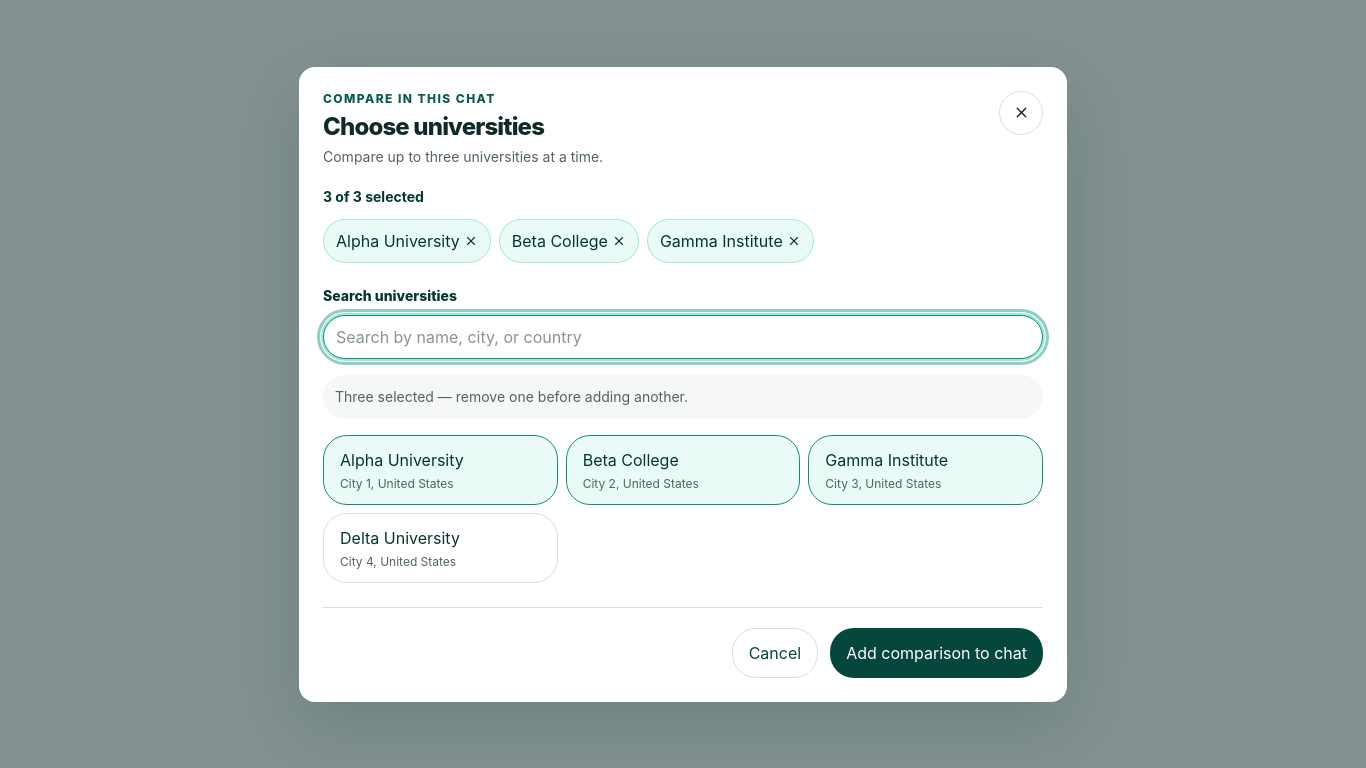
Test: UniversityPickerModal › labels an empty search result
In the search field labelled "Search universities": (683, 336) [323, 314, 1043, 358], type "nowhere"
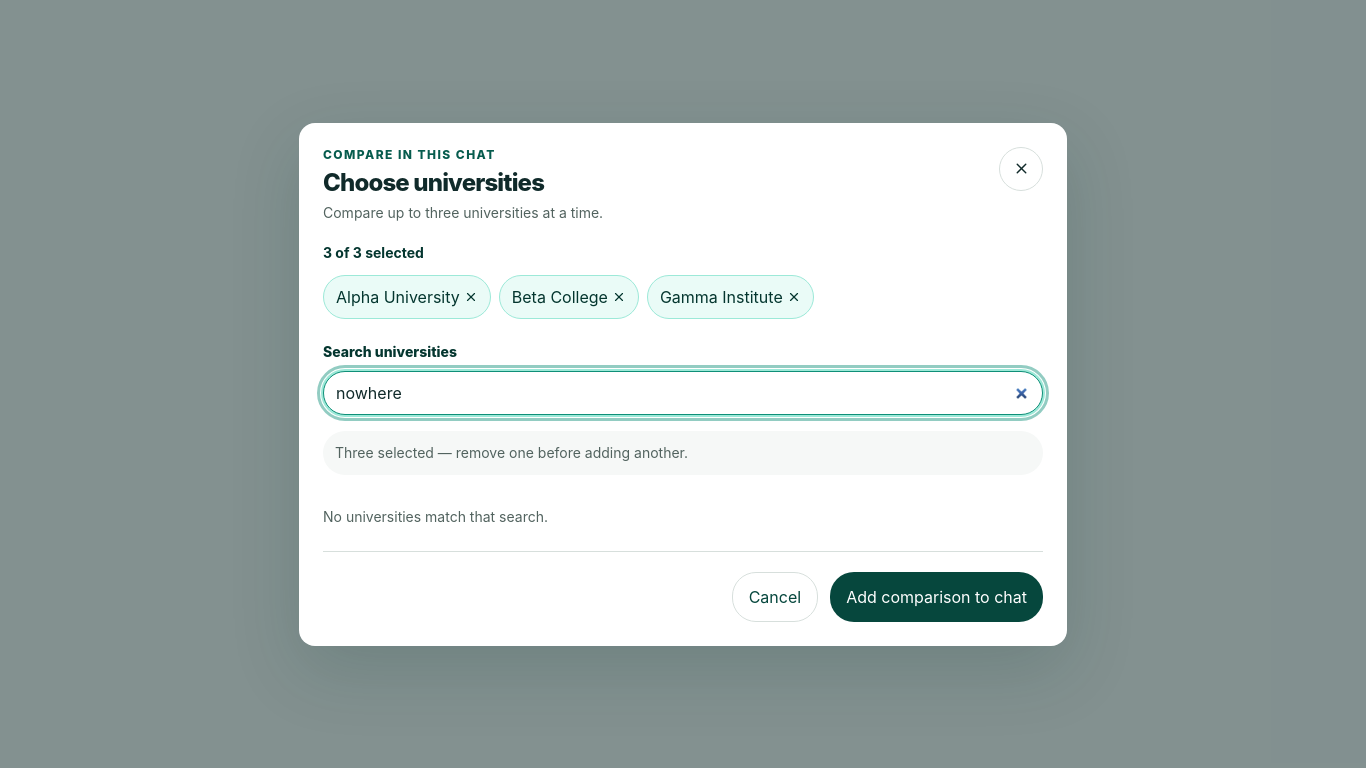
Now the text "No universities match that search." is shown, box [323, 508, 548, 524]
